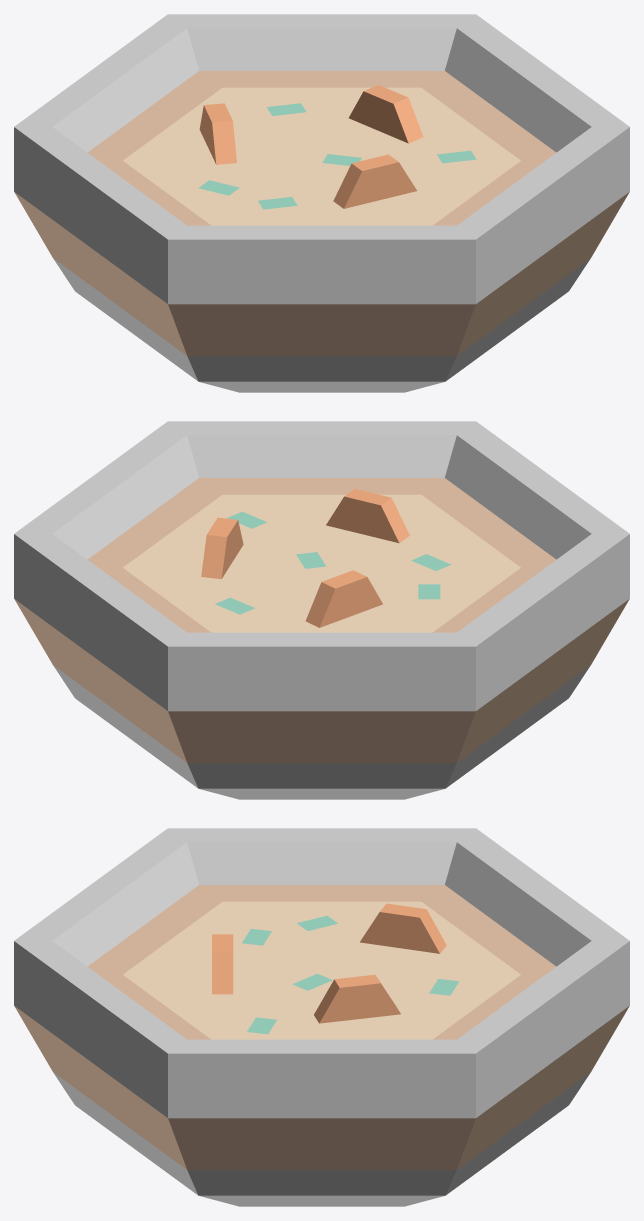
Rendered from bowl_soup.glb.
3 views of the same model, one above another, from view 1: azimuth 30°, elevation 25°; view 2: azimuth 150°, elevation 25°; view 3: azimuth 270°, elevation 25° (orthographic).
Parts seen in each view (by area): view 1: bowlSoup; view 2: bowlSoup; view 3: bowlSoup.
Boxes of the visible parts, bbox=[...] form: bowlSoup: bbox=[14, 14, 629, 392]; bowlSoup: bbox=[14, 421, 629, 799]; bowlSoup: bbox=[14, 828, 629, 1206].
Bounding box in the file's own units: 0.5022 × 0.2138 × 0.5798.
